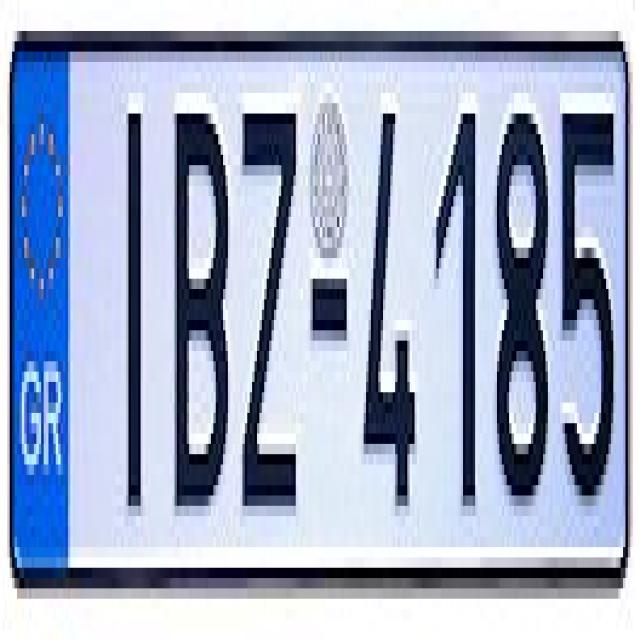EU: (12, 38, 624, 587)
Grece: (13, 27, 68, 580)
